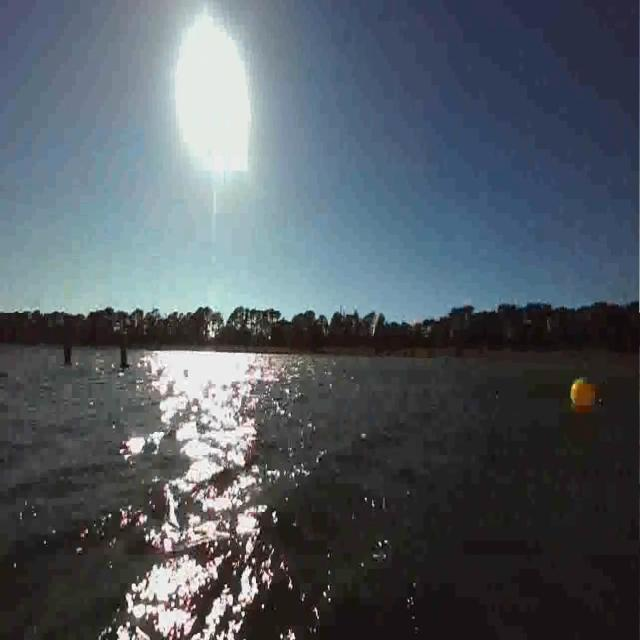green-column-buoy: (117, 329, 130, 372)
yellow-buoy: (569, 377, 598, 411)
